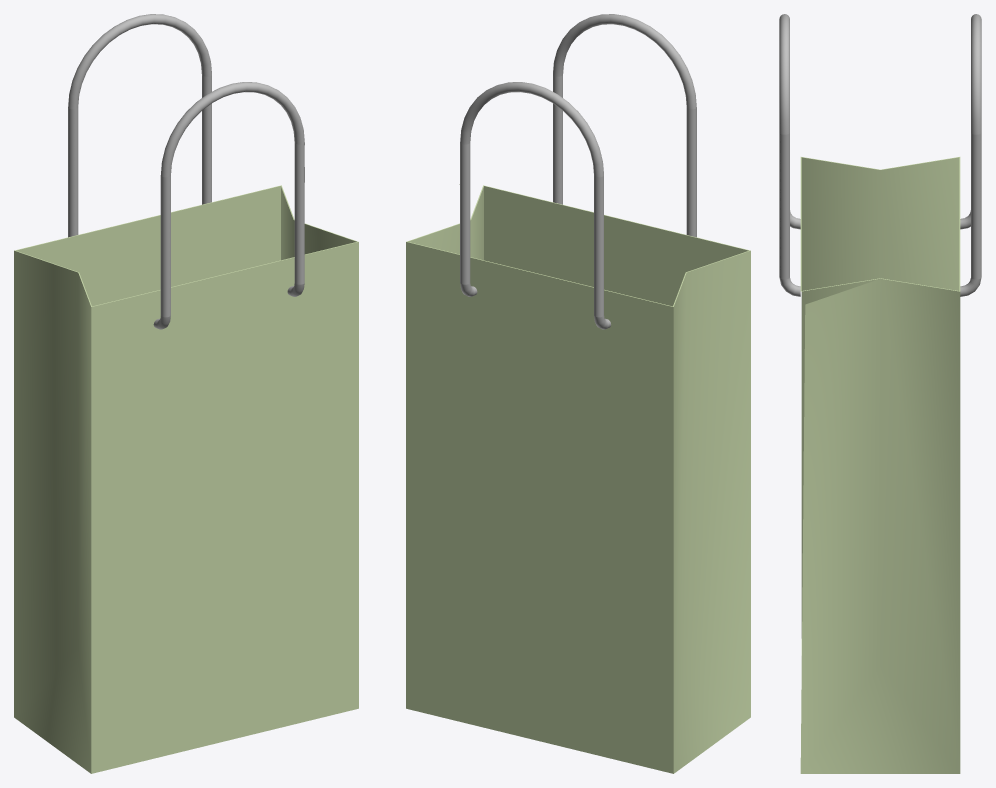
Rendered from bug_sample_test.gltf.
3 renders of one model, left to right at view 1: azimuth 30°, elevation 25°; view 2: azimuth 150°, elevation 25°; view 3: azimuth 270°, elevation 25°, orthographic. The views are drawn at different scales.
Parts seen in each view (by area): view 1: pCube1, pTorus4, pTorus3; view 2: pCube1, pTorus3, pTorus4; view 3: pCube1, pTorus3, pTorus4.
Part boxes in pixels (x1,y1,x2,y2): pCube1: (14,185,358,773); pTorus4: (153,82,304,329); pTorus3: (68,14,211,237); pCube1: (406,184,750,773); pTorus3: (460,82,611,329); pTorus4: (553,14,696,237); pCube1: (800,157,960,773); pTorus3: (960,14,981,296); pTorus4: (779,14,800,296).
Size of the model in its own units: 32.39 by 72 by 19.
